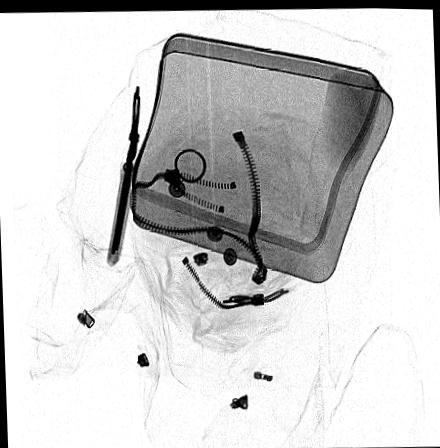Pliers: (109, 78, 138, 258)
